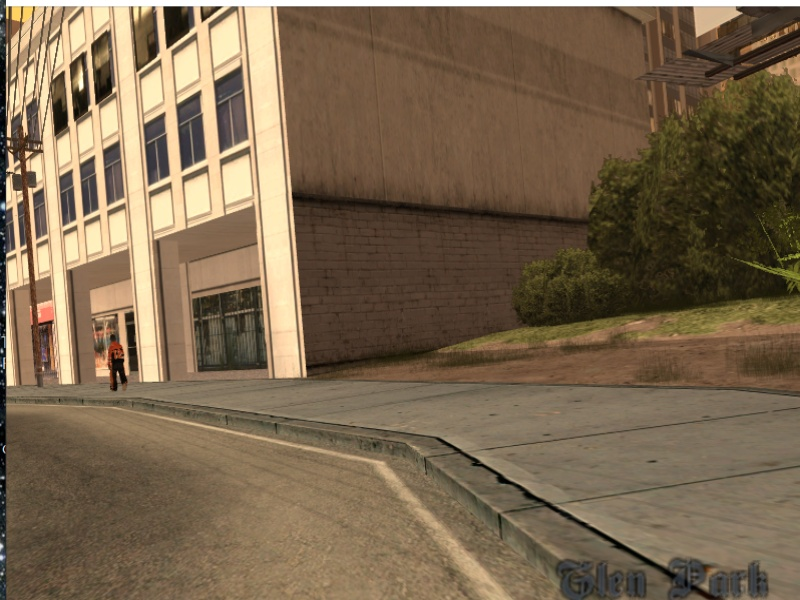person: (104, 337, 130, 391)
pole: (16, 140, 53, 391)
